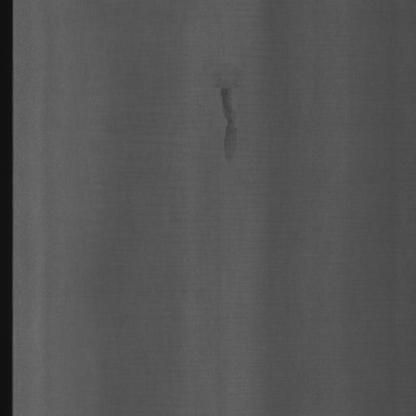water_spot: (202, 65, 249, 179)
